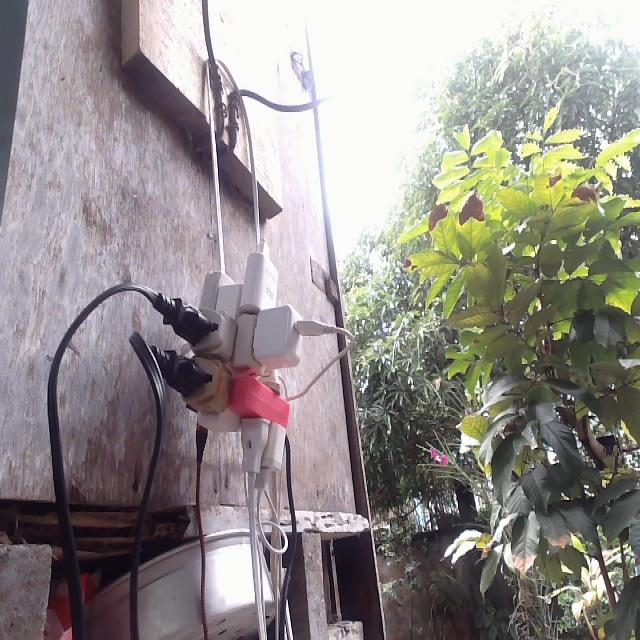-: (110, 201, 337, 519)
